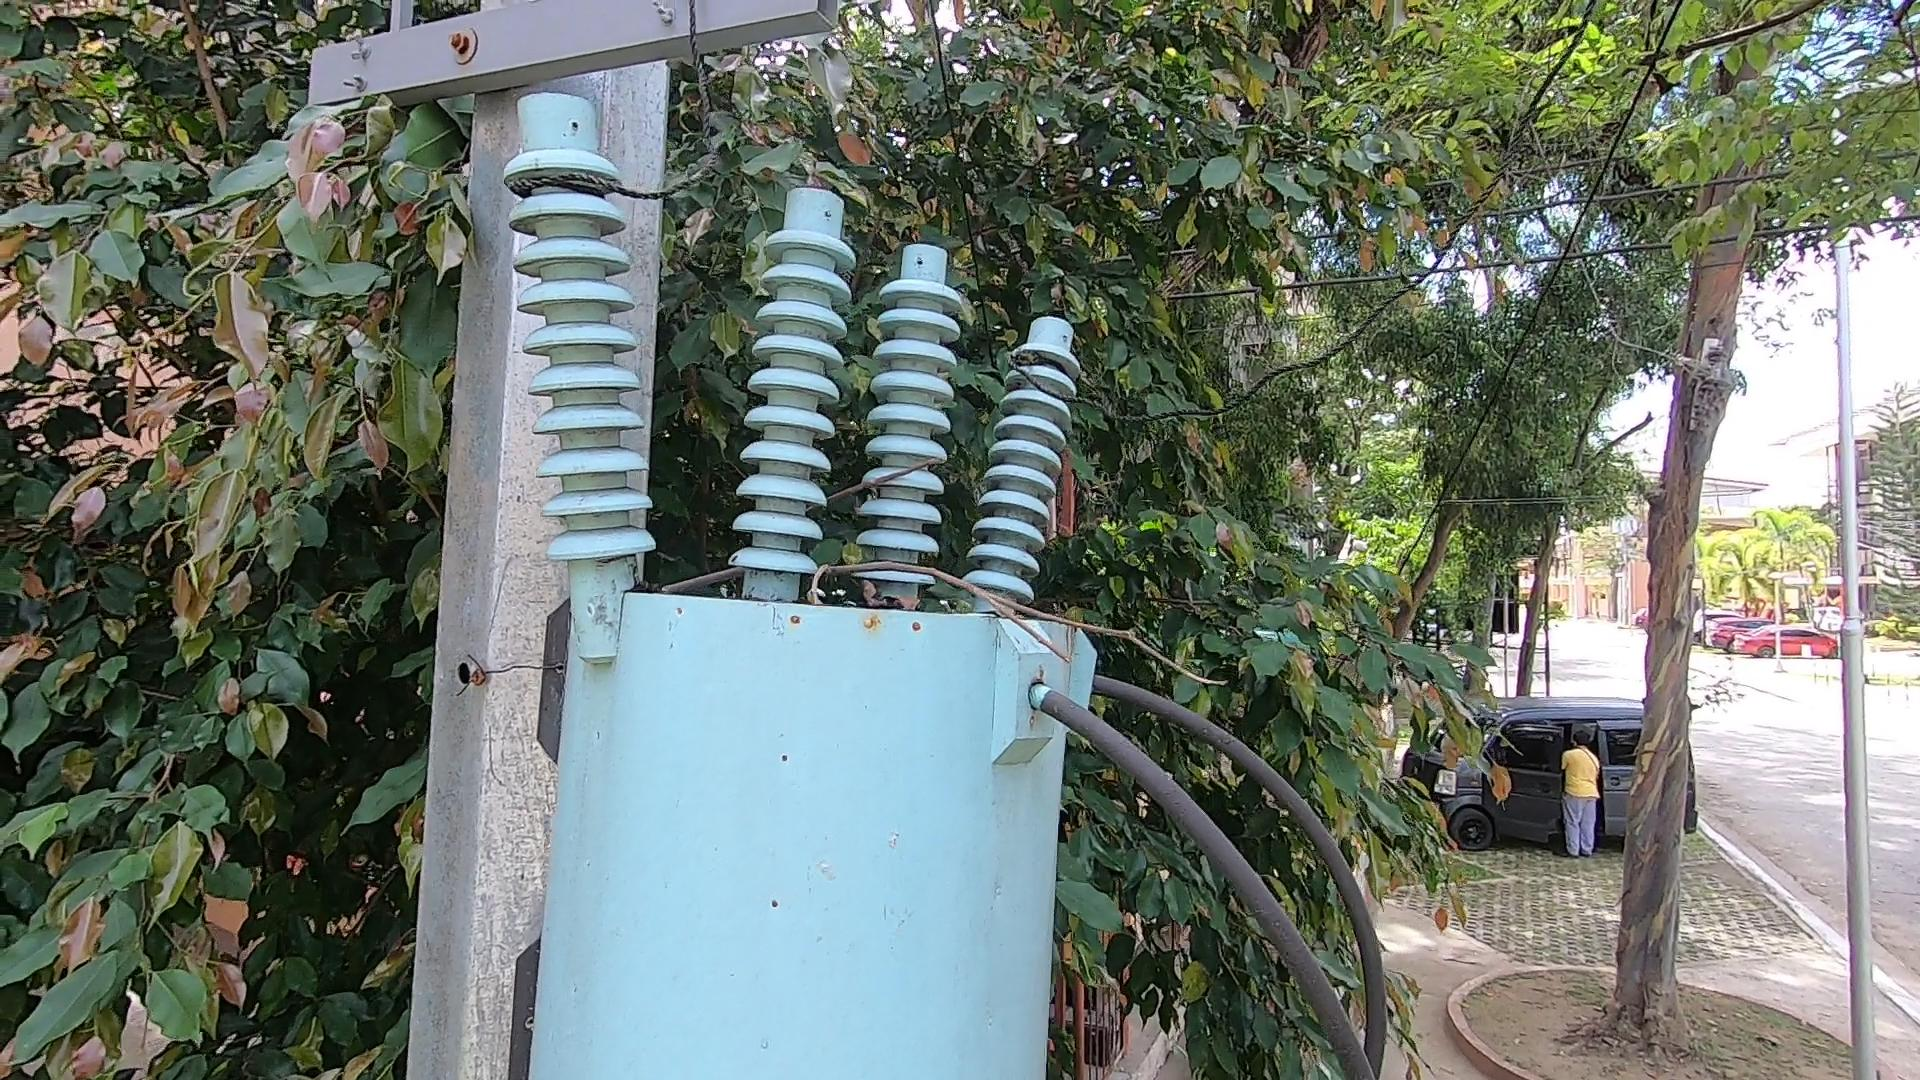leaf: (796, 559, 919, 616)
tree branch: (649, 459, 1236, 705)
